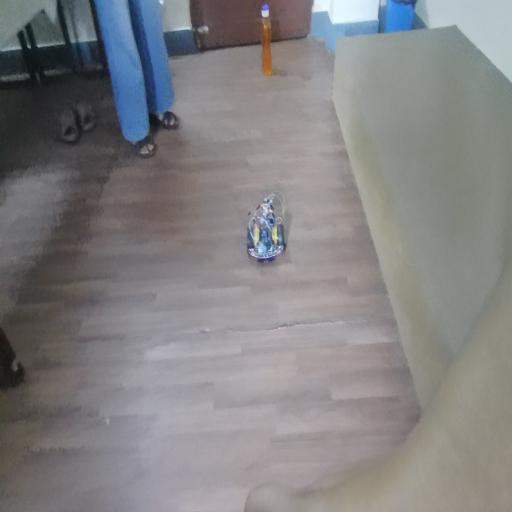Bottle: (256, 0, 281, 77)
car: (241, 171, 290, 285)
